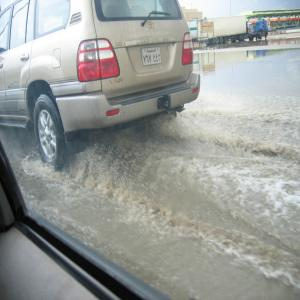Vehicle-registration-plate: (142, 49, 162, 67)
